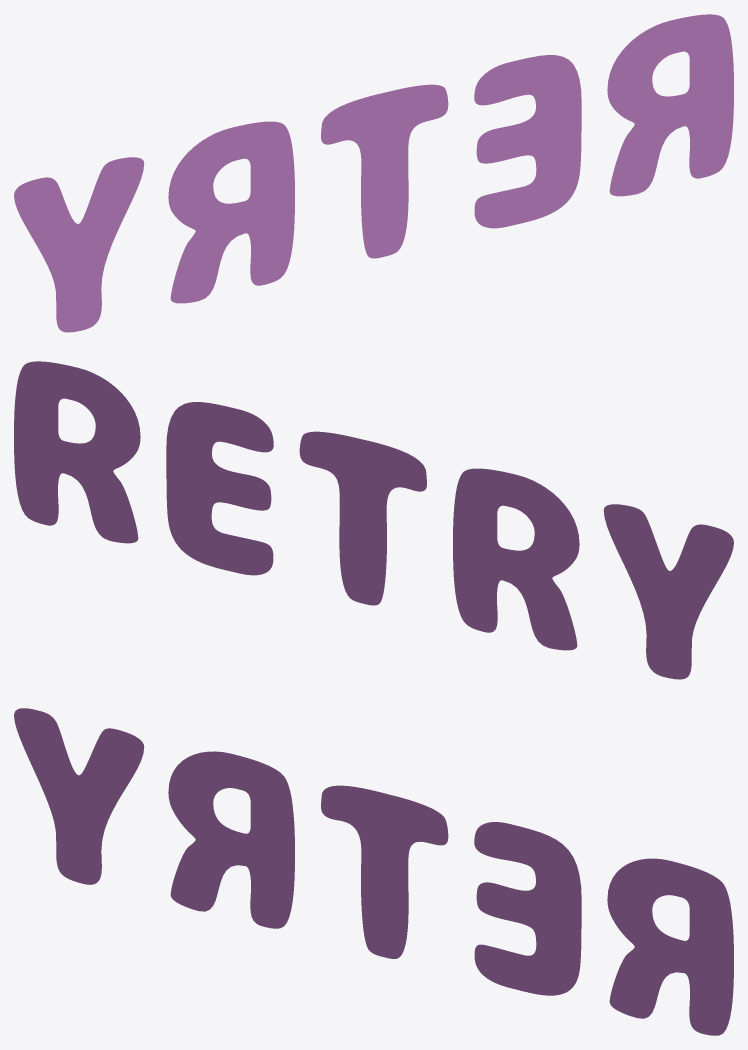
File: retry.obj
3 views of the same model, one above another, from view 1: azimuth 30°, elevation 25°; view 2: azimuth 150°, elevation 25°; view 3: azimuth 330°, elevation 25° (orthographic).
Visible parts, largest first — view 1: テキスト; view 2: テキスト; view 3: テキスト.
Boxes of the visible parts, left/top/right/bottom form: テキスト: left=14, top=14, right=733, bottom=332; テキスト: left=14, top=361, right=733, bottom=679; テキスト: left=14, top=708, right=733, bottom=1035.
Size of the model in its own units: 2.49 by 0.5504 by 0.
